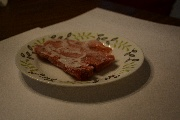beef: (33, 39, 116, 81)
